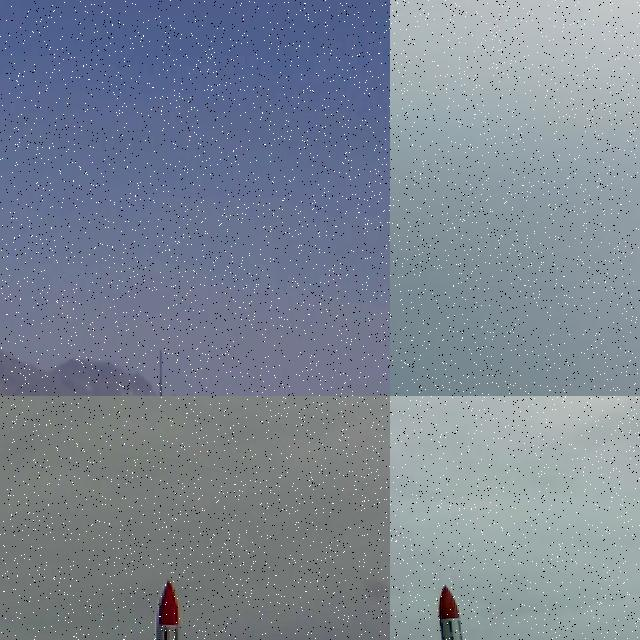Rocket: (433, 584, 491, 640), (133, 578, 185, 640)
